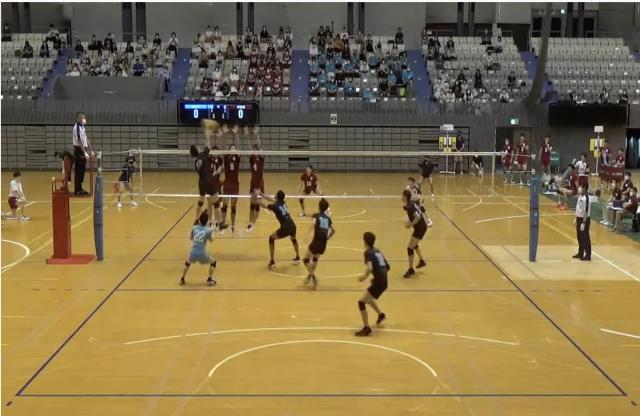spike: (186, 116, 229, 233)
